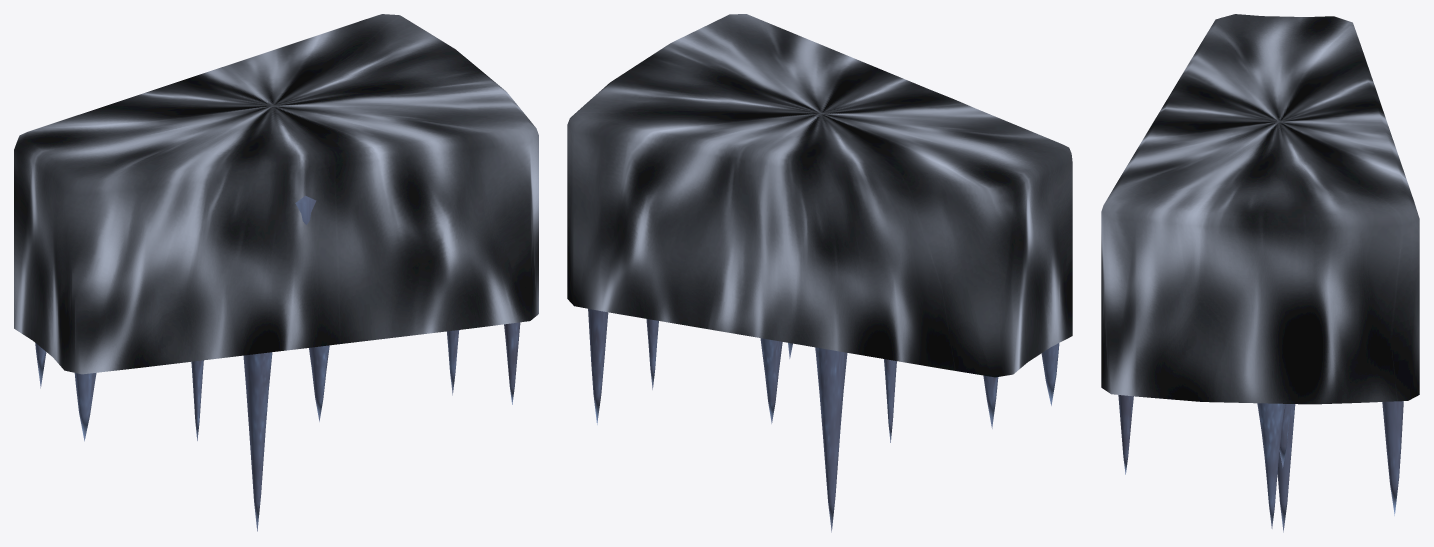
Rendered from SM_Aurora_Stairs_Step3.glb.
3 views of the same model, side by side, from view 1: azimuth 30°, elevation 25°; view 2: azimuth 150°, elevation 25°; view 3: azimuth 270°, elevation 25° (orthographic). The views are drawn at different scales.
Parts seen in each view (by area): view 1: SM_Aurora_Stairs_Step3; view 2: SM_Aurora_Stairs_Step3; view 3: SM_Aurora_Stairs_Step3.
Part boxes in pixels (x1,y1,x2,y2): SM_Aurora_Stairs_Step3: (14, 14, 538, 531); SM_Aurora_Stairs_Step3: (567, 14, 1072, 532); SM_Aurora_Stairs_Step3: (1101, 14, 1419, 532).
Size of the model in its own units: 0.8471 by 0.7923 by 0.5477.
2 materials, 2 textured.
